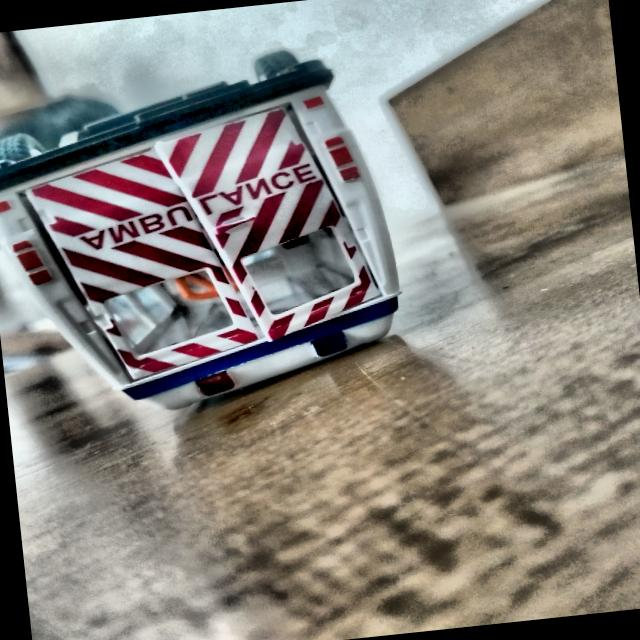Ambulance: (0, 27, 420, 427)
